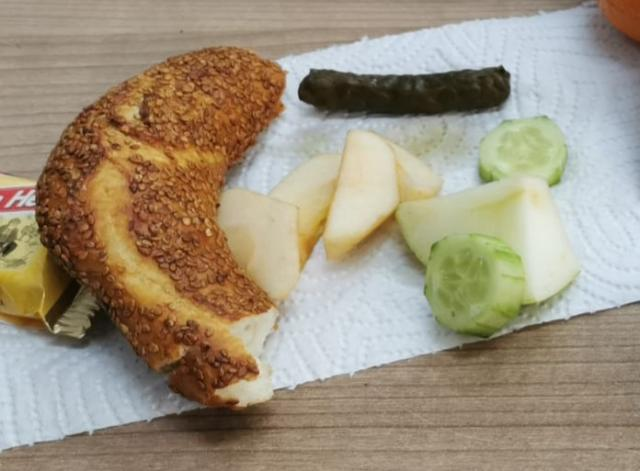Organik: (31, 39, 282, 410), (290, 51, 549, 120), (420, 230, 530, 338), (329, 127, 402, 262), (471, 112, 569, 187)
